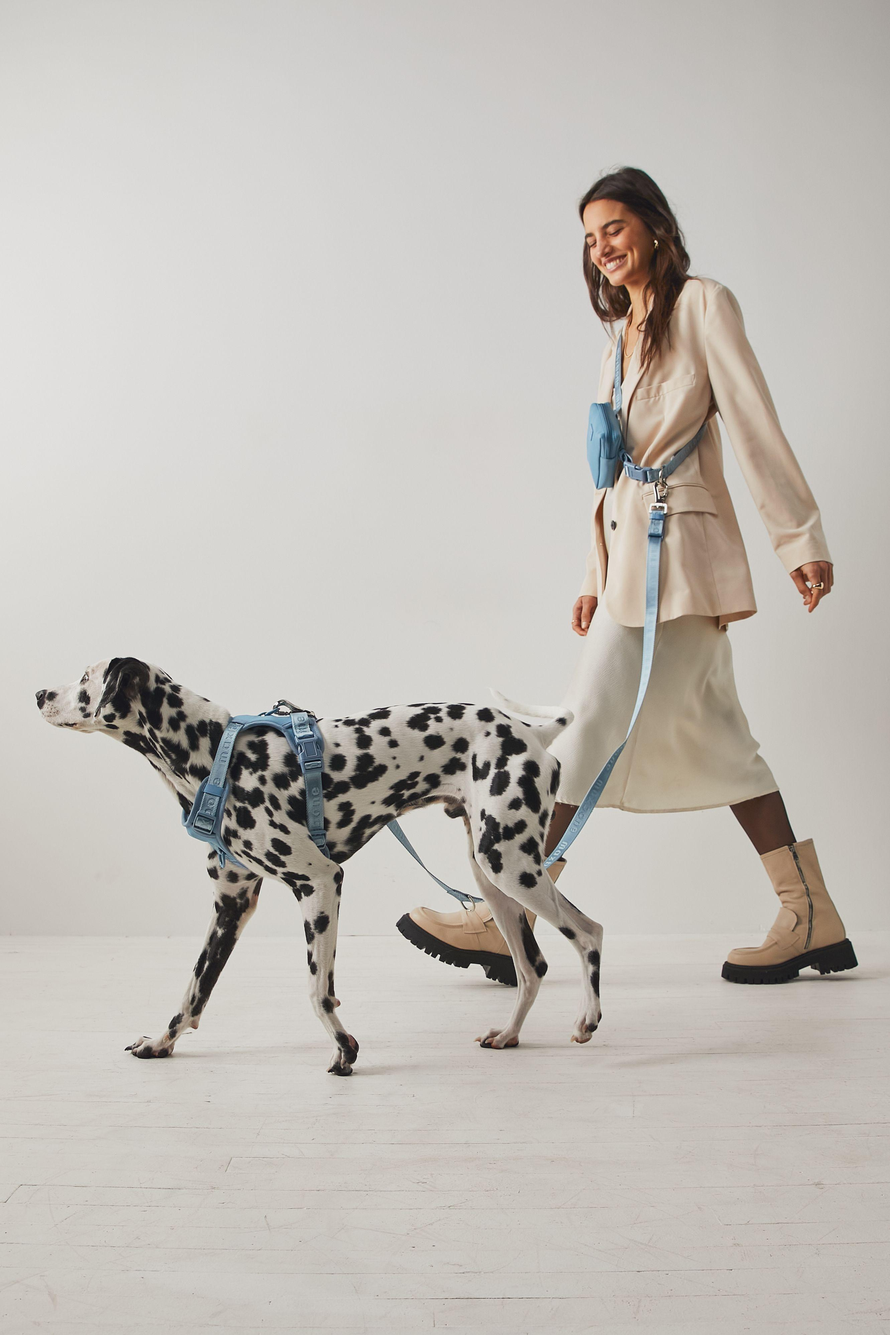adult_dog: (32, 655, 605, 1079)
non-dog: (395, 161, 863, 988)
